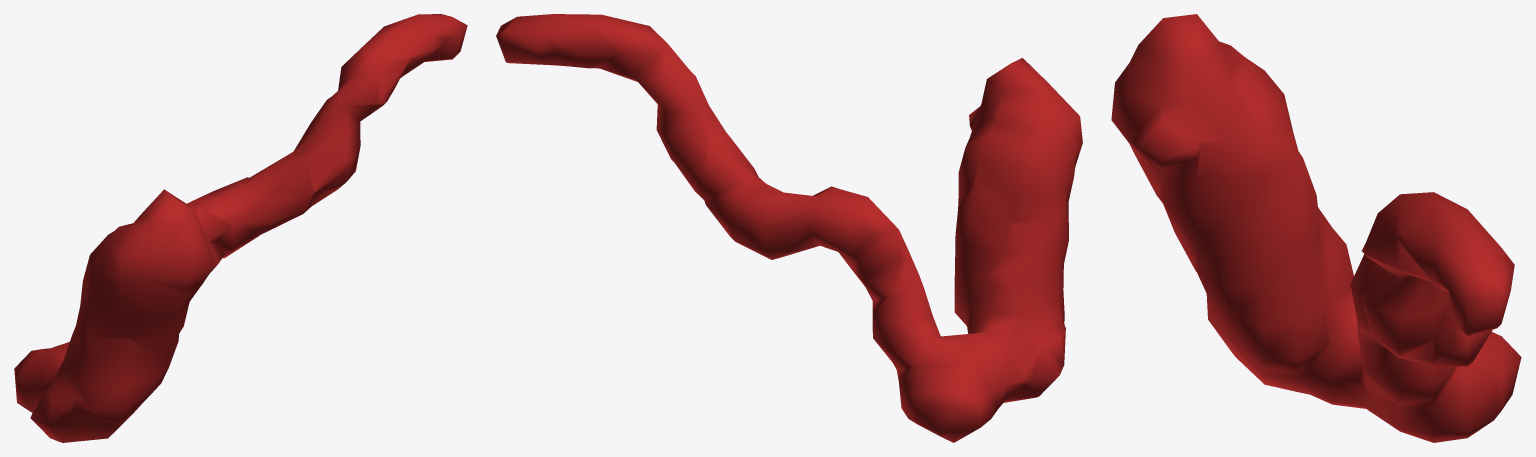
Rendered from Vesicle_188A6monomerAligned.fbx.
3 renders of one model, left to right at view 1: azimuth 30°, elevation 25°; view 2: azimuth 150°, elevation 25°; view 3: azimuth 270°, elevation 25°, orthographic. The views are drawn at different scales.
Visible parts, largest first — view 1: vesicle_MeshVes188Mesh; view 2: vesicle_MeshVes188Mesh; view 3: vesicle_MeshVes188Mesh.
Boxes of the visible parts, x1=… form: vesicle_MeshVes188Mesh: x1=14, y1=14, x2=467, y2=442; vesicle_MeshVes188Mesh: x1=496, y1=14, x2=1082, y2=442; vesicle_MeshVes188Mesh: x1=1111, y1=14, x2=1521, y2=442.
Bounding box in the file's own units: 152 × 93.95 × 72.69.
